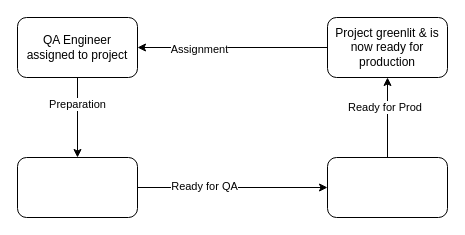
This 465x235 diagram has some shape labels left out. Each missing label, with the centre of its shape:
"Test case created" belongs at point 77,187.
"Test suite execution" belongs at point 387,187.
